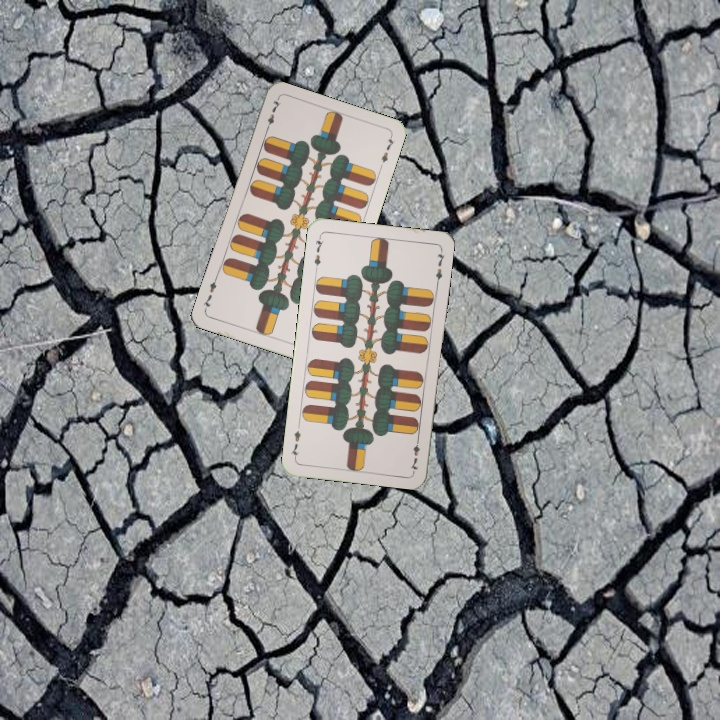E7: (261, 95, 283, 135), (310, 232, 326, 273), (406, 433, 422, 473)
